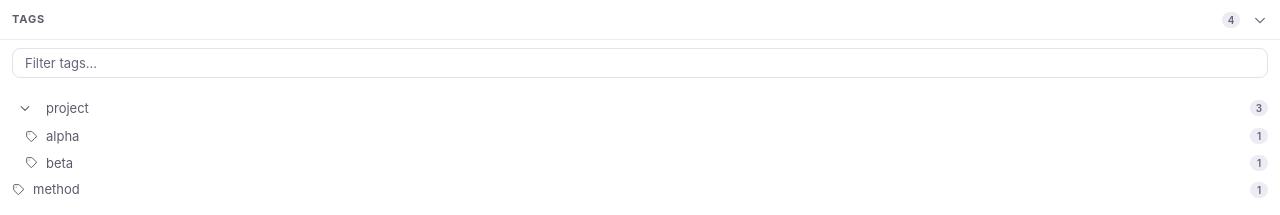
TagPanel › says so when the filter matches nothing
Step 1. Type "zzz" into the field labelled "Filter tags" → (640, 63), box [12, 48, 1268, 78]
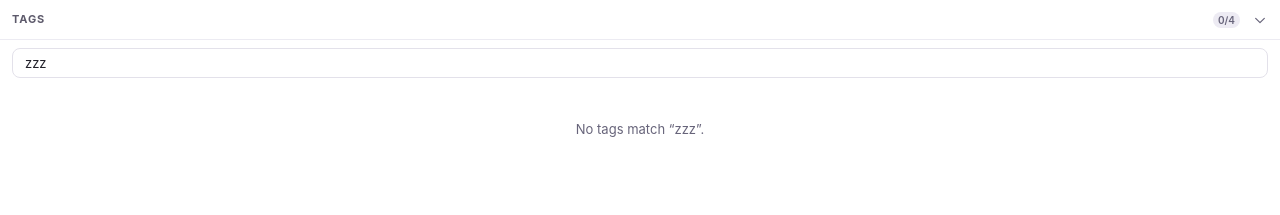
Expected: the text "No tags match “zzz”." is shown, [576, 121, 704, 137]
